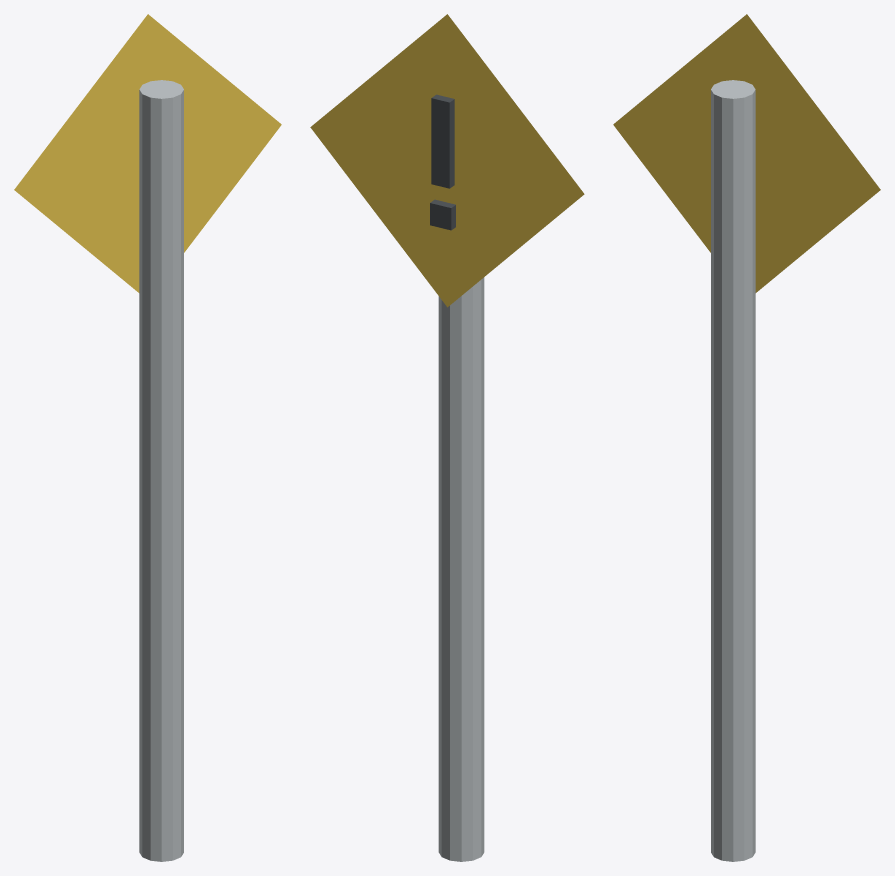
Rendered from warning_sign.gltf.
The picture shows the model from 3 angles, left to right: view 1: azimuth 30°, elevation 25°; view 2: azimuth 150°, elevation 25°; view 3: azimuth 330°, elevation 25°; orthographic projection. The views are drawn at different scales.
Parts seen in each view (by area): view 1: SteelPole, YellowSign; view 2: YellowSign, SteelPole, Exclamation, Point; view 3: SteelPole, YellowSign.
Part boxes in pixels (x1,y1,x2,y2): SteelPole: (139,80,183,861); YellowSign: (14,14,281,292); YellowSign: (310,14,584,307); SteelPole: (438,277,484,861); Exclamation: (431,94,454,188); Point: (430,199,455,230); SteelPole: (711,80,755,861); YellowSign: (613,14,880,292).
Size of the model in its own units: 0.9 by 2.66 by 0.184.
